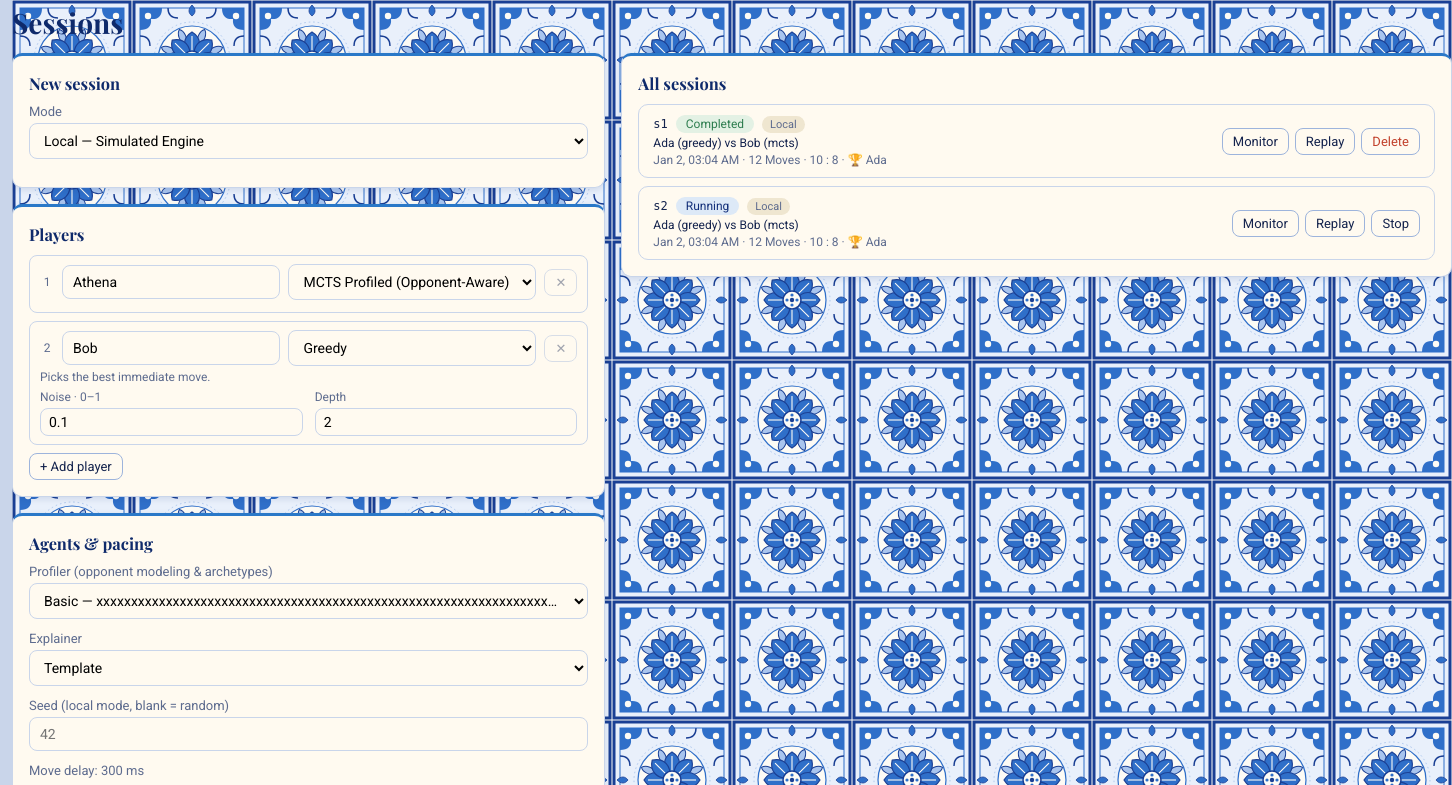
Sessions › reports action failures
Click the button "Delete": (1391,141) 1361,128 -> 1420,154
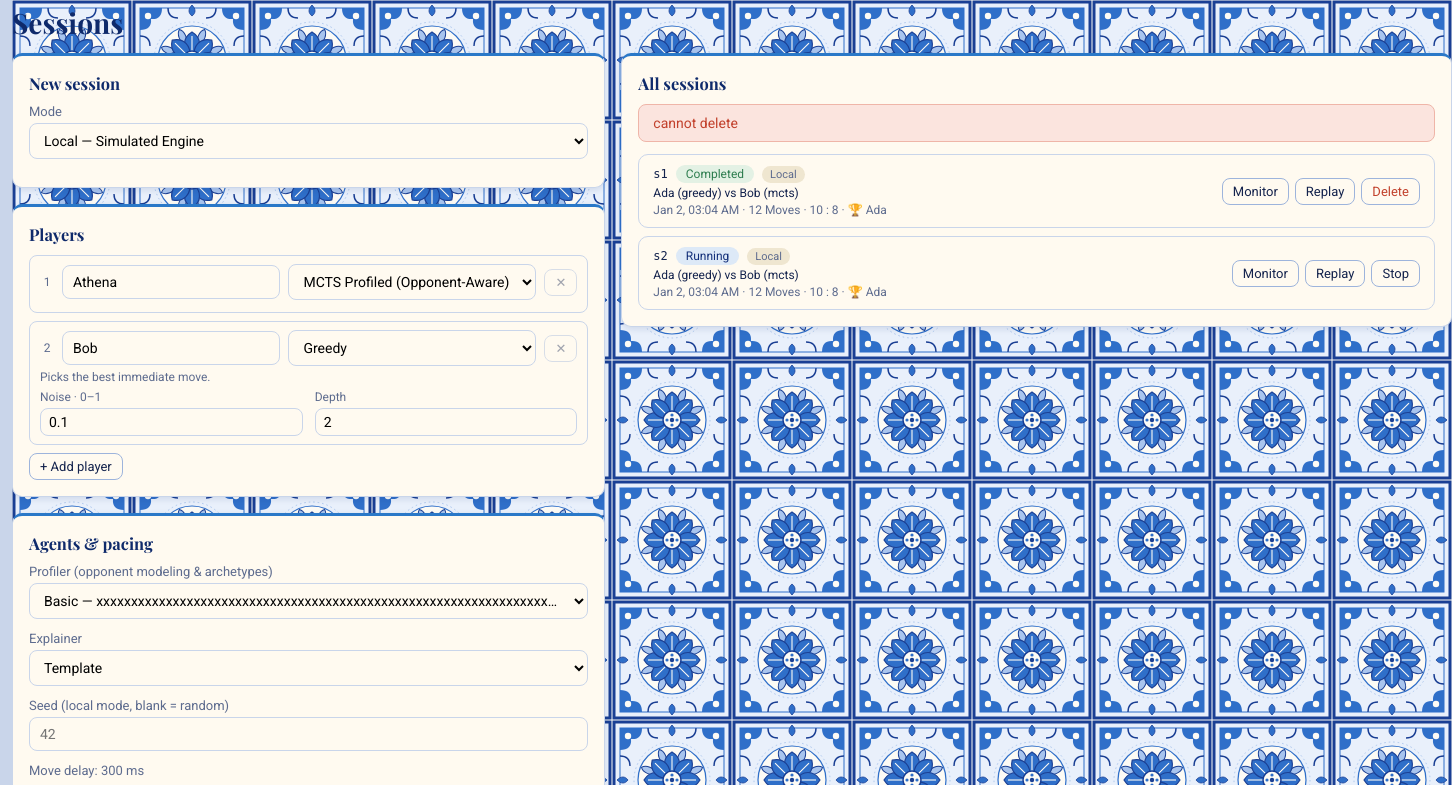
expect the text "cannot delete" is shown: met, box 638,104 -> 1435,142
